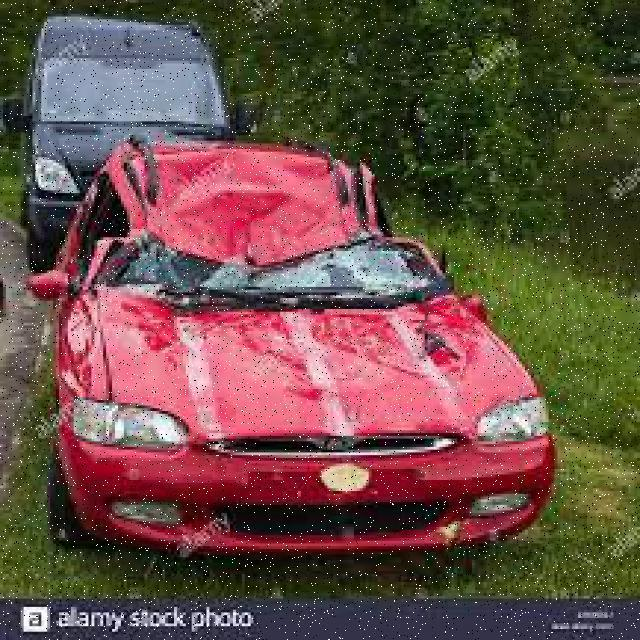Front-Windscreen-Damage: (115, 215, 442, 315)
roof-dent: (95, 137, 392, 245)
